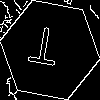T: (25, 25, 62, 76)
